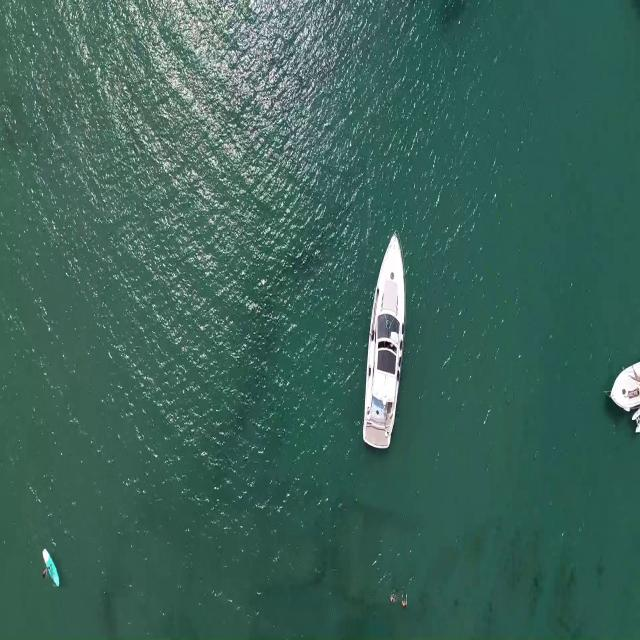boat: (359, 234, 406, 448), (606, 358, 640, 439)
person: (41, 560, 51, 574), (400, 594, 409, 609), (388, 592, 397, 605)
surfboard: (42, 542, 59, 590)
